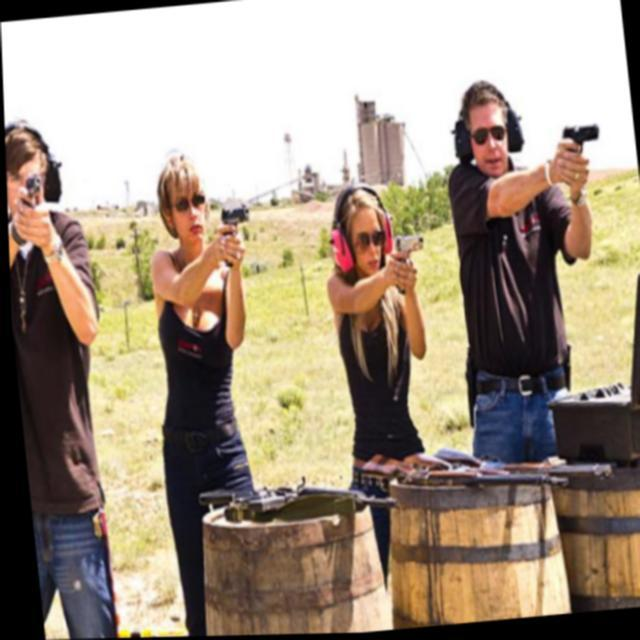weapon: (344, 435, 613, 513), (195, 478, 304, 520), (392, 233, 428, 295), (218, 204, 256, 261), (558, 125, 602, 171), (23, 173, 43, 208)
